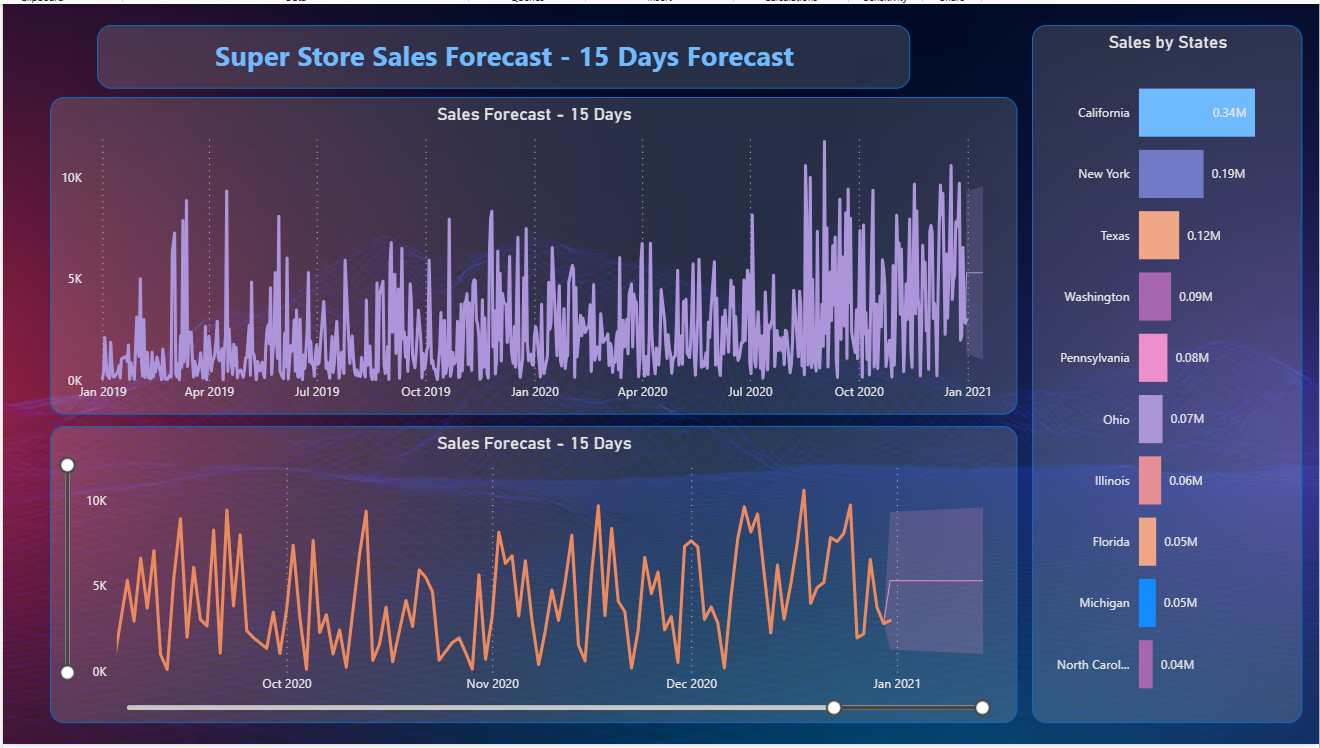

This screenshot's page, from the dashboard's own definition file:
{"tool":"powerbi","page":{"name":"Forecast","canvas":[1280,720],"ordinal":1},"visuals":[{"type":"lineChart","title":"Sales Forecast - 15 Days","fields":{"Y":["Sum(SuperStore_Sales_Dataset.Sales)"],"Category":["SuperStore_Sales_Dataset.Order Date"]},"box":[45.7,90.5,940.5,309.3],"z":0},{"type":"lineChart","title":"Sales Forecast - 15 Days","fields":{"Y":["Sum(SuperStore_Sales_Dataset.Sales)"],"Category":["SuperStore_Sales_Dataset.Order Date"]},"box":[45.7,410.5,940.5,288.9],"z":1000},{"type":"clusteredBarChart","title":" Sales by States","fields":{"Category":["SuperStore_Sales_Dataset.State"],"Y":["Sum(SuperStore_Sales_Dataset.Sales)"]},"box":[1000.9,20.4,262.6,678.9],"z":2000},{"type":"textbox","box":[91.4,20.4,790.8,62.2],"z":3000}]}

Visuals, with their boxes on the page's 1280x720 design canvas (x1, y1, x2, y2). These are canvas units, not pixel positions in the 1320x748 screenshot, which may show the page scaled, cropped or inside an application window:
"Sales Forecast - 15 Days" lineChart: 46 90 986 400
"Sales Forecast - 15 Days" lineChart: 46 410 986 699
" Sales by States" clusteredBarChart: 1001 20 1264 699
textbox: 91 20 882 83
